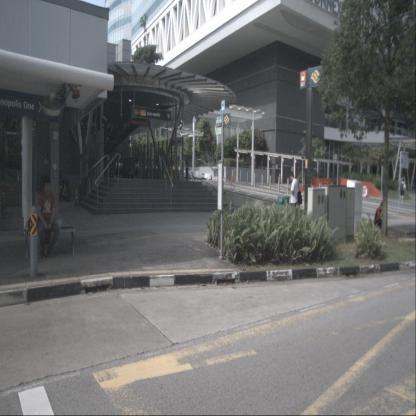human-pedestrian-adult: (37, 176, 60, 258), (287, 172, 302, 230), (374, 201, 386, 233), (0, 175, 6, 209), (398, 178, 406, 203), (158, 152, 163, 178), (195, 152, 199, 166)
movable_object-trafficcone: (74, 188, 80, 207), (231, 170, 234, 182), (279, 173, 281, 184)
vehicle-bicycle: (54, 180, 71, 202), (61, 180, 76, 202)
